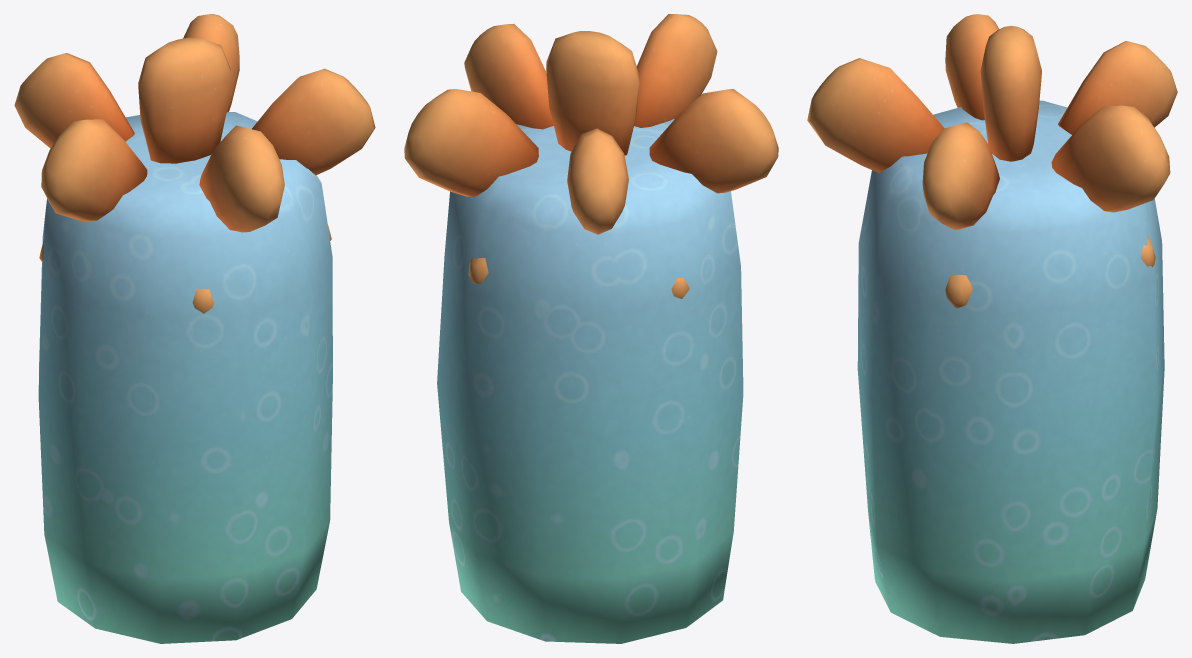
File: PolypPillar_Coral.fbx
3 renders of one model, left to right at view 1: azimuth 30°, elevation 25°; view 2: azimuth 150°, elevation 25°; view 3: azimuth 270°, elevation 25°, orthographic.
Visible parts, largest first — view 1: PolypPillar_Coral_S3; view 2: PolypPillar_Coral_S3, PolypPillar_Coral_S2; view 3: PolypPillar_Coral_S3, PolypPillar_Coral_S2.
Boxes of the visible parts, box(x1,y1,x2,y2) form: PolypPillar_Coral_S3: box(14, 14, 375, 643); PolypPillar_Coral_S3: box(404, 14, 778, 643); PolypPillar_Coral_S2: box(468, 255, 689, 298); PolypPillar_Coral_S3: box(807, 14, 1177, 643); PolypPillar_Coral_S2: box(945, 236, 1155, 308).
Size of the model in its own units: 0.3495 by 0.5752 by 0.3485.
